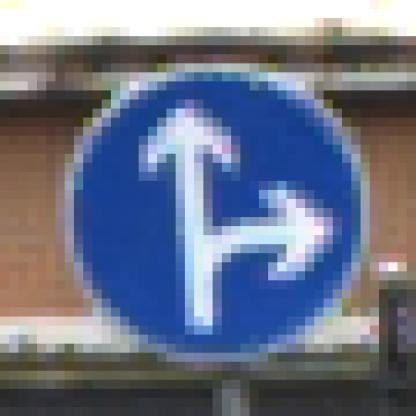Straight or Right: (56, 55, 371, 372)
